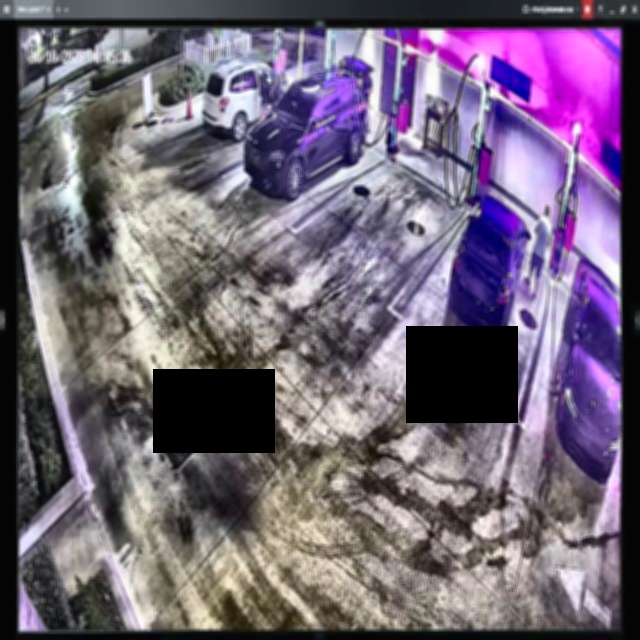Car: (242, 53, 370, 197), (450, 193, 530, 338)
